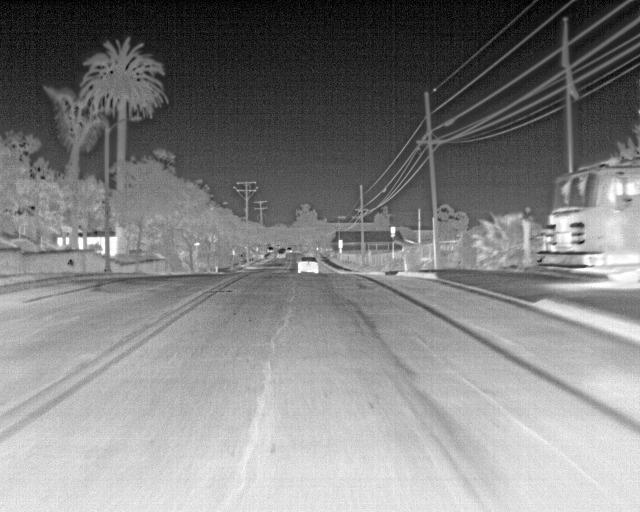car: (298, 255, 317, 274), (275, 246, 287, 259)
